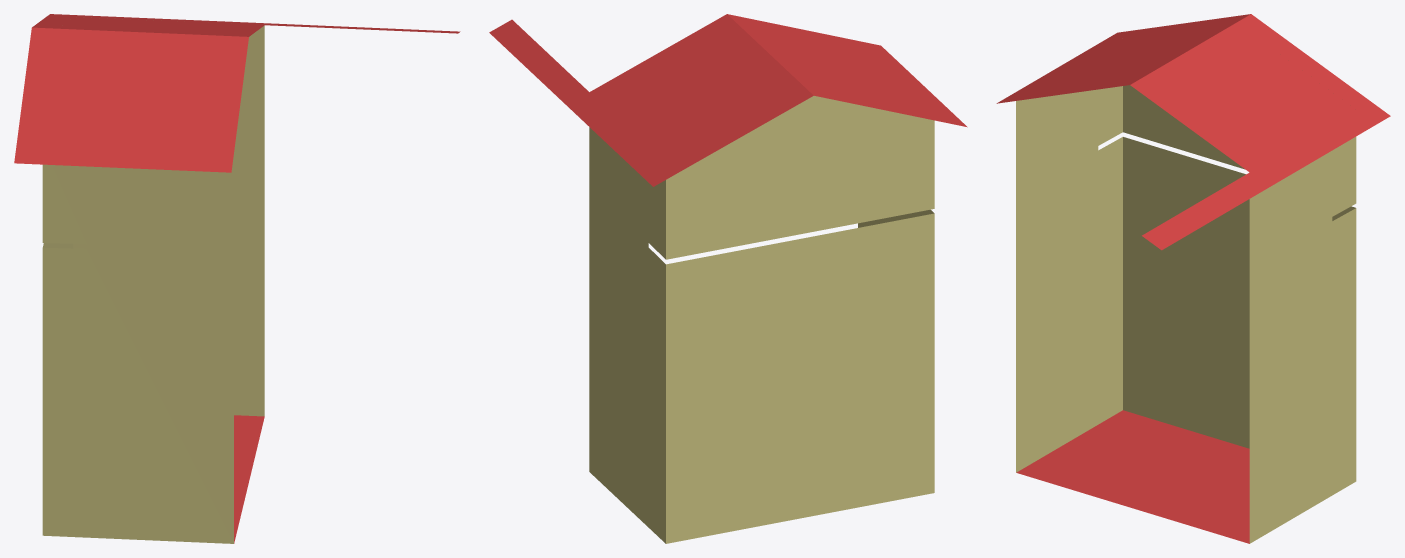
The picture shows the model from 3 angles, left to right: view 1: azimuth 30°, elevation 25°; view 2: azimuth 150°, elevation 25°; view 3: azimuth 270°, elevation 25°; orthographic projection. The views are drawn at different scales.
Bounding box in the file's own units: 10.42 × 7.99 × 9.42.
